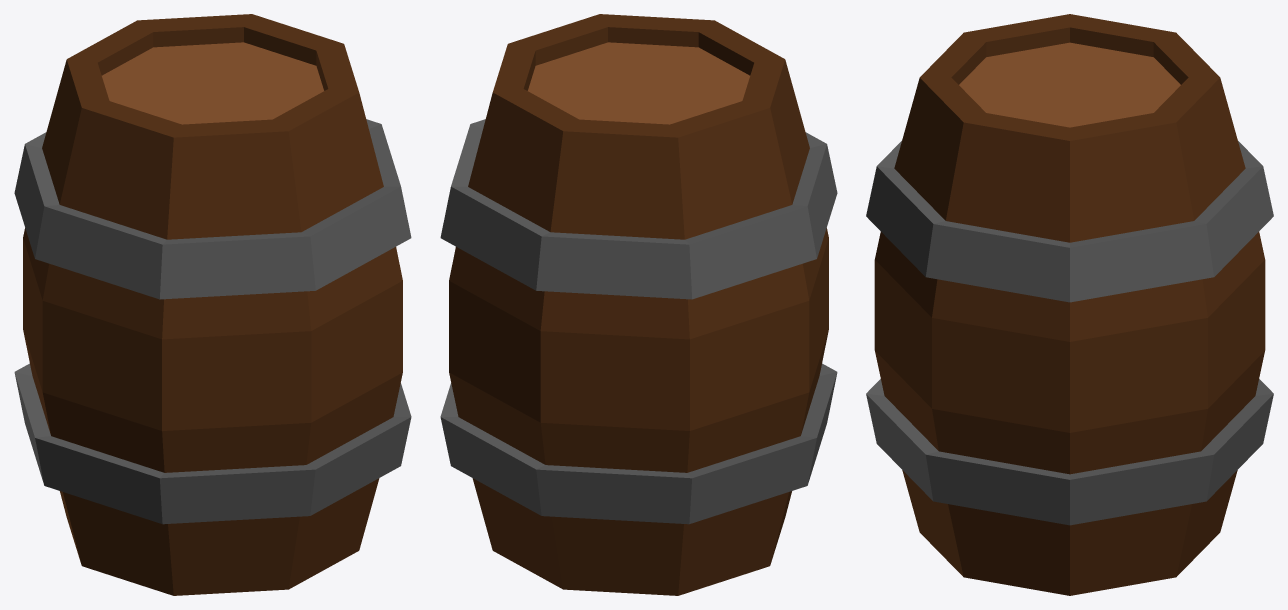
Rendered from 001_Barrel.fbx.
3 views of the same model, side by side, from view 1: azimuth 30°, elevation 25°; view 2: azimuth 150°, elevation 25°; view 3: azimuth 270°, elevation 25° (orthographic).
Parts seen in each view (by area): view 1: Barrel; view 2: Barrel; view 3: Barrel.
Part boxes in pixels (box(x1,y1,x2,y2)): Barrel: box(14, 14, 411, 595); Barrel: box(440, 14, 837, 595); Barrel: box(866, 14, 1273, 595).
Bounding box in the file's own units: 73.15 × 90 × 73.15.
